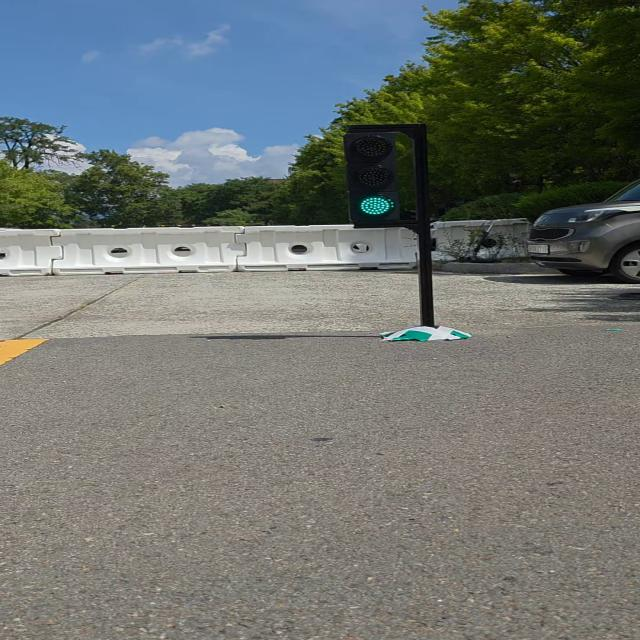green: (344, 129, 413, 228)
